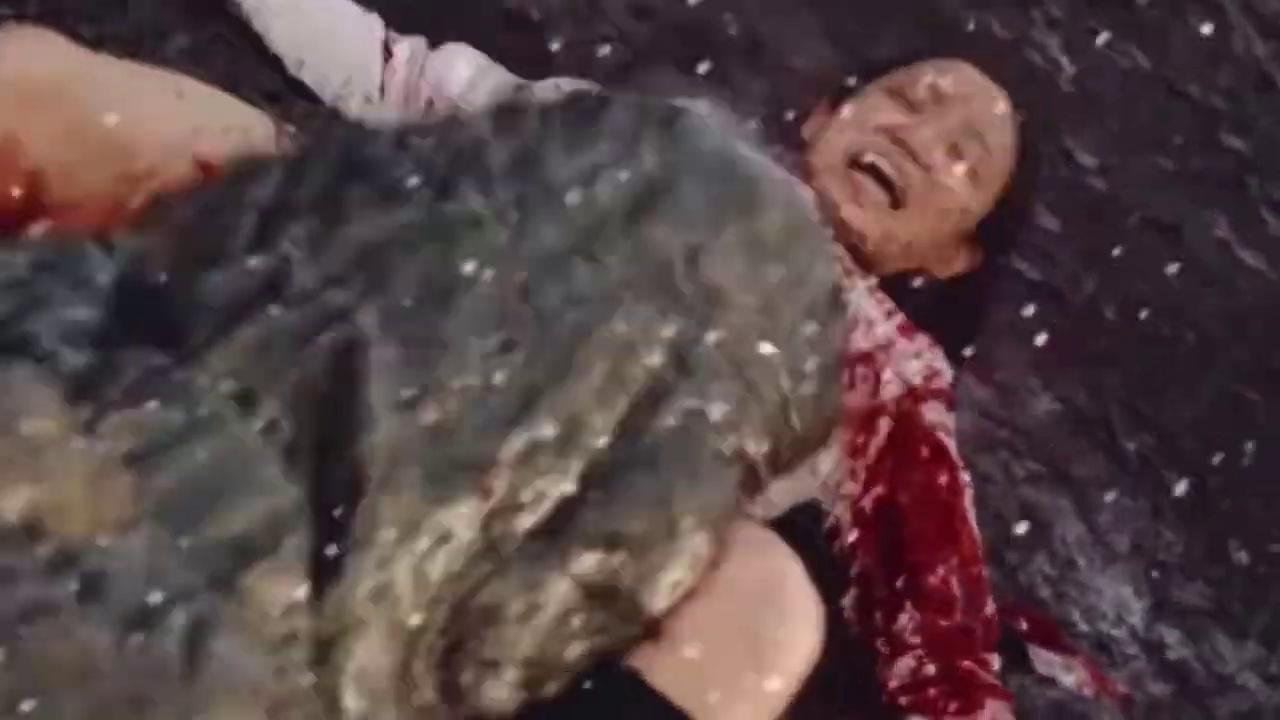Fire: (813, 242, 1011, 718), (0, 103, 283, 240)
